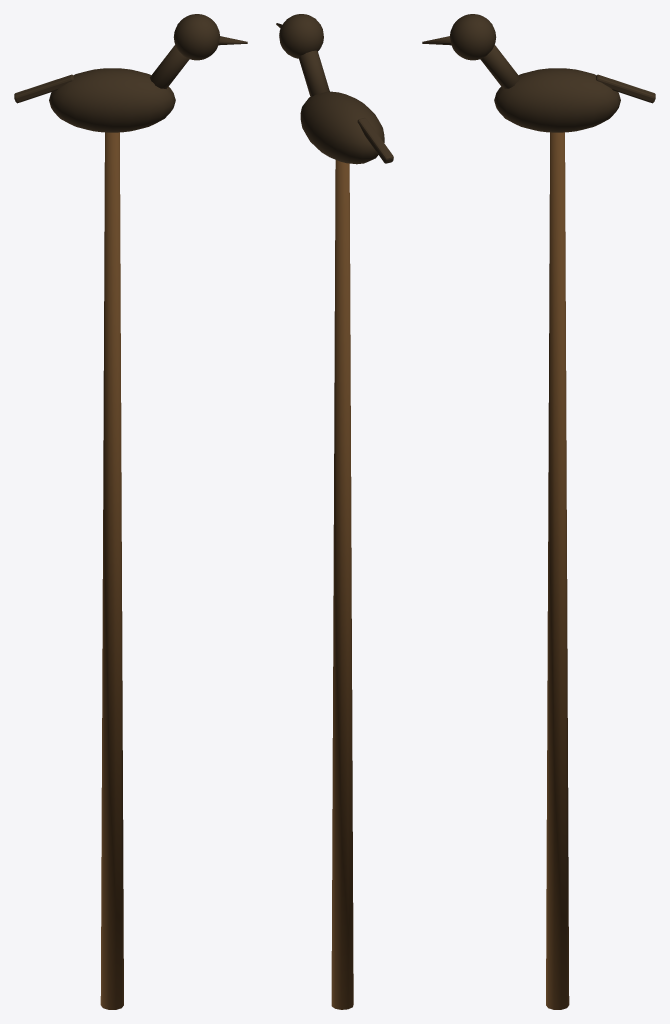
File: sotdae.glb
The picture shows the model from 3 angles, left to right: view 1: azimuth 90°, elevation 25°; view 2: azimuth 210°, elevation 25°; view 3: azimuth 270°, elevation 25°; orthographic projection. The views are drawn at different scales.
Visible parts, largest first — view 1: Cone, Sphere, Sphere.001, Cone.001, Cube; view 2: Cone, Sphere, Sphere.001, Cone.001, Cube; view 3: Cone, Sphere, Sphere.001, Cone.001, Cube.
Boxes of the visible parts, box(x1,y1,x2,y2) form: Cone: box(100, 132, 123, 1009); Sphere: box(49, 68, 175, 132); Sphere.001: box(173, 14, 219, 60); Cone.001: box(150, 45, 189, 88); Cube: box(14, 74, 73, 103); Cone: box(331, 160, 353, 1009); Sphere: box(300, 91, 384, 164); Sphere.001: box(279, 14, 323, 58); Cone.001: box(299, 50, 329, 96); Cube: box(357, 117, 393, 163); Cone: box(546, 132, 569, 1009); Sphere: box(494, 68, 620, 132); Sphere.001: box(450, 14, 496, 60); Cone.001: box(480, 45, 519, 88); Cube: box(596, 74, 655, 103).
Size of the model in its own units: 0.33 by 5.16 by 1.1.
